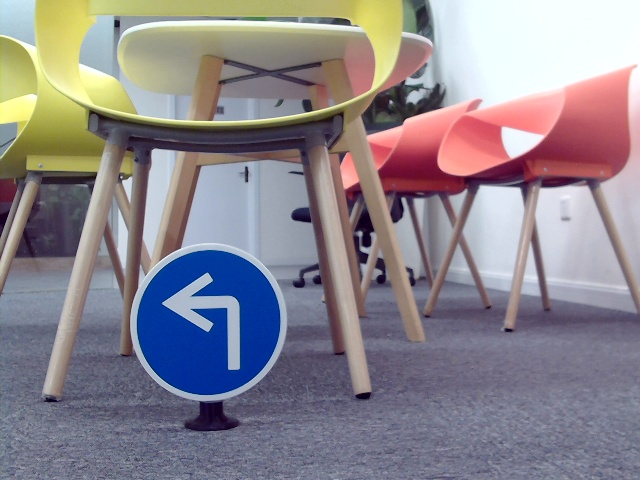turn_left: (161, 271, 251, 369)
